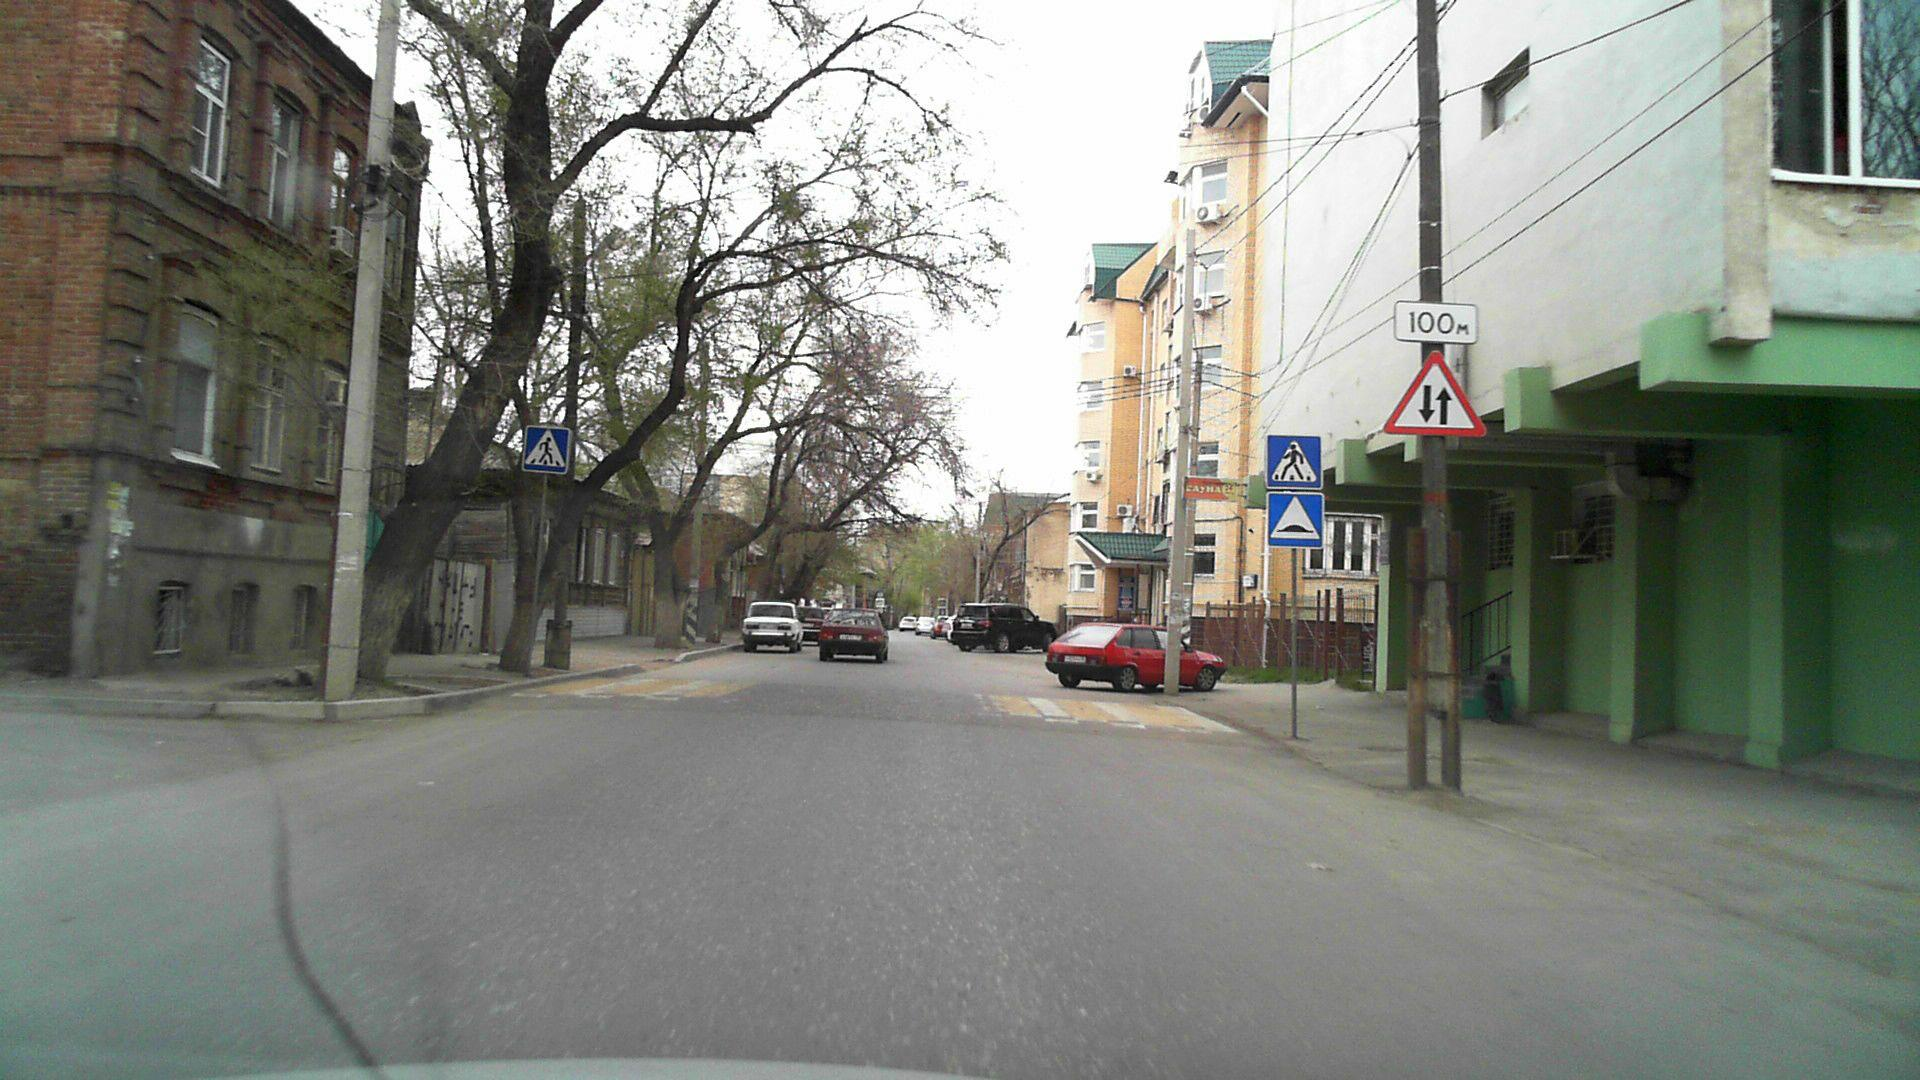1_21: (1383, 348, 1487, 436)
5_19_1: (1267, 434, 1323, 489)
5_19_2: (525, 423, 568, 472)
5_20: (1266, 489, 1327, 545)
8_1_1: (1394, 298, 1476, 343)
